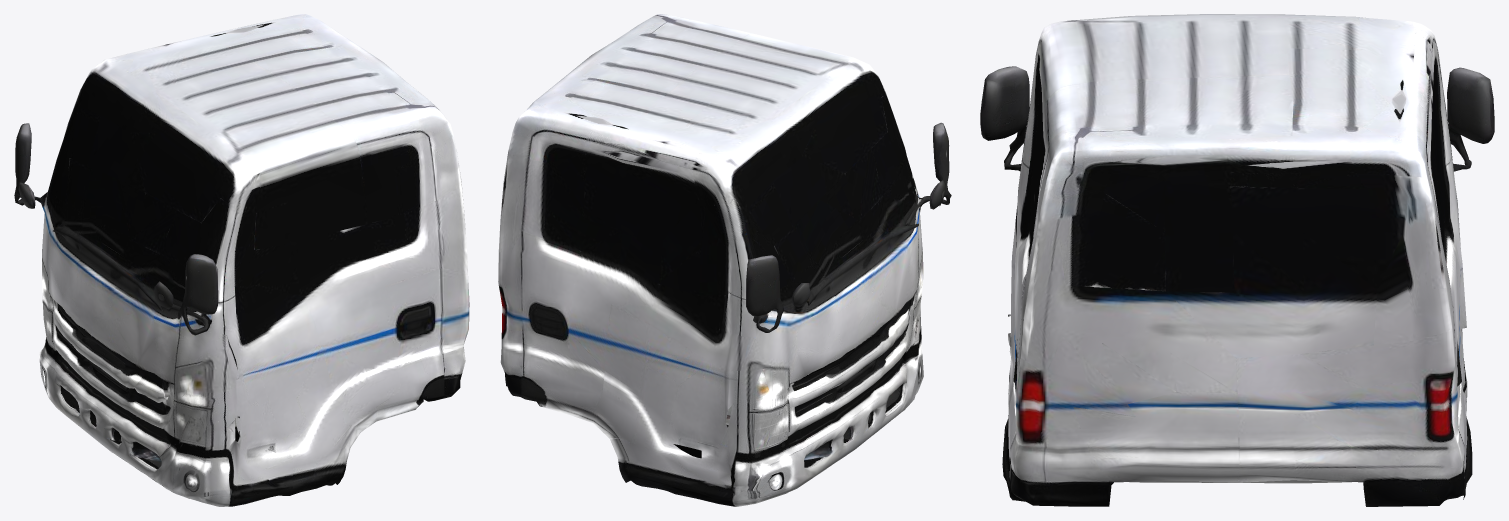
The model's file is Truck3headOnly_optimized.glb.
3 views of the same model, side by side, from view 1: azimuth 30°, elevation 25°; view 2: azimuth 150°, elevation 25°; view 3: azimuth 270°, elevation 25° (orthographic). The views are drawn at different scales.
Parts seen in each view (by area): view 1: Mesh_0.010; view 2: Mesh_0.010; view 3: Mesh_0.010.
Part boxes in pixels (box(x1,y1,x2,y2)): Mesh_0.010: box(14, 14, 469, 506); Mesh_0.010: box(498, 14, 951, 506); Mesh_0.010: box(980, 14, 1494, 506).
Bounding box in the file's own units: 0.6205 × 0.6862 × 0.7132.
2 materials, 1 textured.
